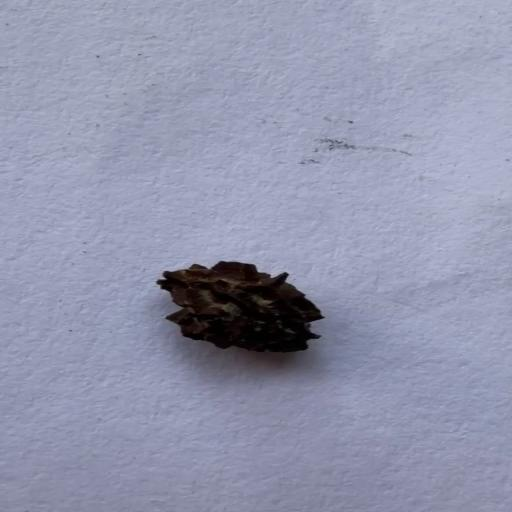papaya_seed: (153, 262, 326, 355)
